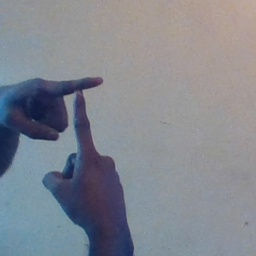T: (26, 65, 125, 191)
